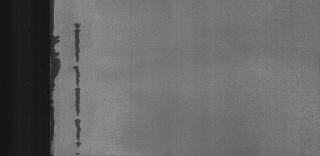oil spot: (69, 20, 95, 148), (50, 6, 62, 148)
